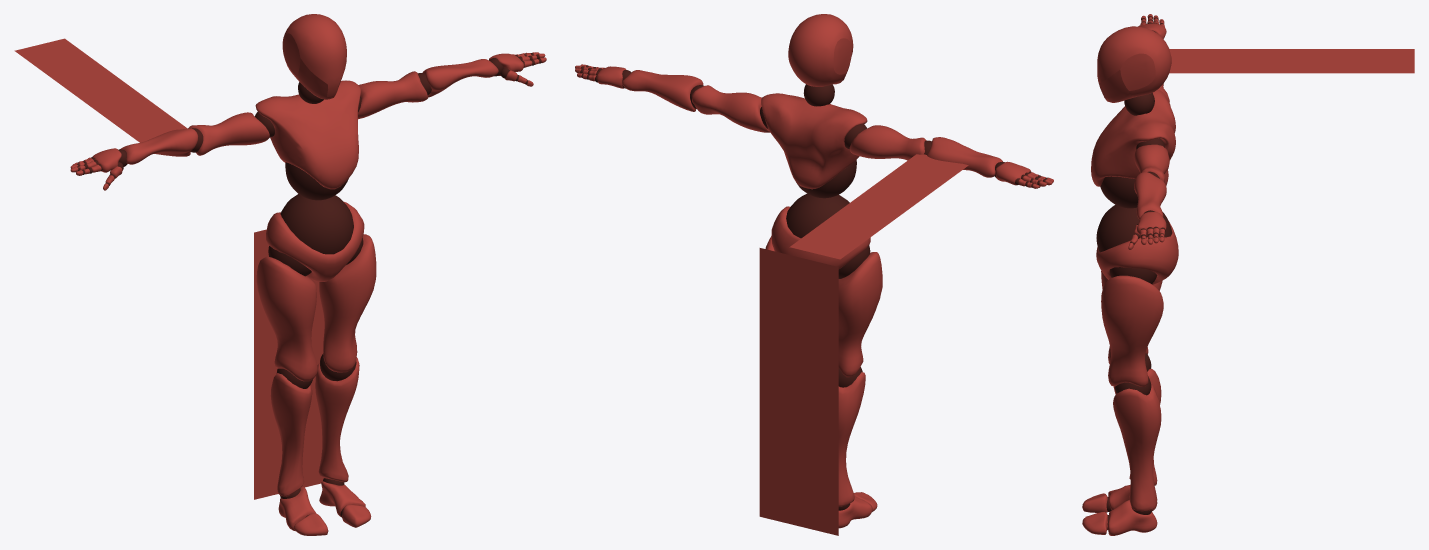
File: mixamo_mesh.fbx
3 views of the same model, side by side, from view 1: azimuth 30°, elevation 25°; view 2: azimuth 150°, elevation 25°; view 3: azimuth 270°, elevation 25° (orthographic).
Visible parts, largest first — view 1: Beta_Surface002, Beta_Joints, piaodai; view 2: Beta_Surface002, Beta_Joints, piaodai; view 3: Beta_Surface002, Beta_Joints, piaodai.
Part boxes in pixels (x1,y1,x2,y2): Beta_Surface002: [14, 14, 546, 535]; Beta_Joints: [76, 53, 541, 517]; piaodai: [18, 43, 127, 98]; Beta_Surface002: [575, 14, 1053, 535]; Beta_Joints: [580, 65, 1047, 510]; piaodai: [792, 199, 903, 257]; Beta_Surface002: [1082, 14, 1414, 535]; Beta_Joints: [1096, 16, 1172, 529]; piaodai: [1284, 49, 1414, 73].
Size of the model in its own units: 181 by 181 by 111.
